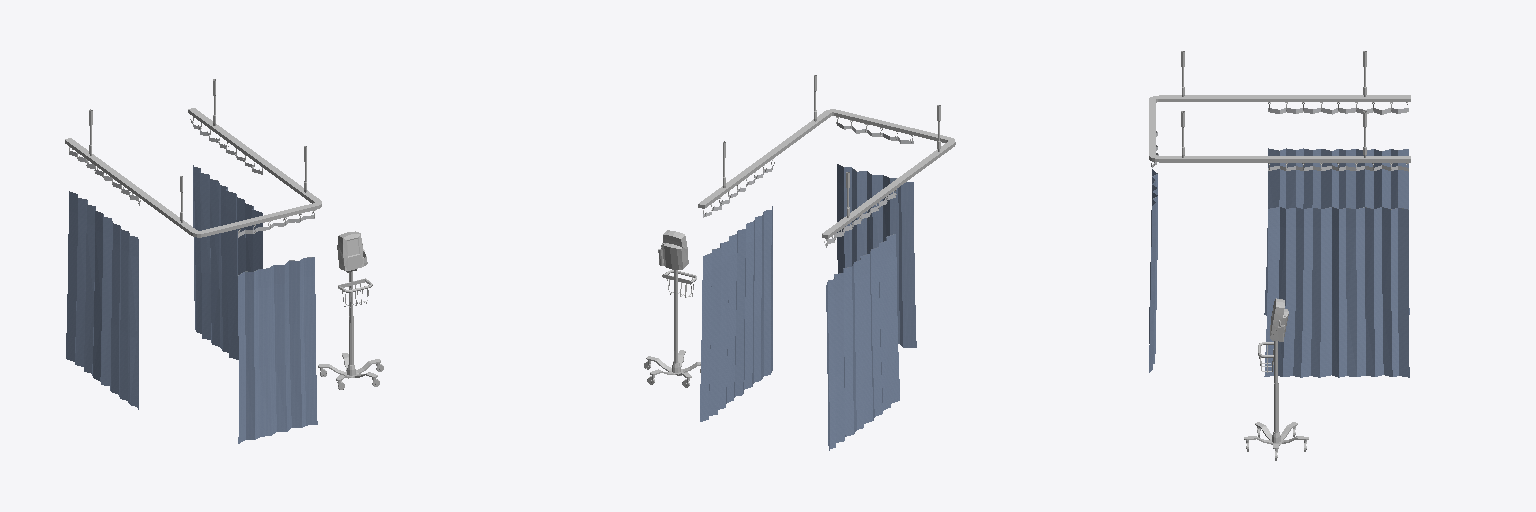
3 views of the same model, side by side, from view 1: azimuth 30°, elevation 25°; view 2: azimuth 150°, elevation 25°; view 3: azimuth 270°, elevation 25° (orthographic).
Visible parts, largest first — view 1: defaultMaterial.003, defaultMaterial.020, defaultMaterial.010, defaultMaterial.002, defaultMaterial, defaultMaterial.001; view 2: defaultMaterial.020, defaultMaterial.010, defaultMaterial.003, defaultMaterial.002, defaultMaterial, defaultMaterial.001; view 3: defaultMaterial.010, defaultMaterial.020, defaultMaterial.002, defaultMaterial.003, defaultMaterial, defaultMaterial.001.
Part boxes in pixels (x1,y1,x2,y2): defaultMaterial.003: (238,215,317,443); defaultMaterial.020: (66,151,139,409); defaultMaterial.010: (192,121,262,359); defaultMaterial.002: (65,79,321,237); defaultMaterial: (318,271,383,389); defaultMaterial.001: (337,231,367,272); defaultMaterial.020: (826,193,899,450); defaultMaterial.010: (700,166,772,421); defaultMaterial.003: (837,122,916,347); defaultMaterial.002: (698,75,955,238); defaultMaterial: (644,270,700,387); defaultMaterial.001: (658,230,688,269); defaultMaterial.010: (1264,165,1409,377); defaultMaterial.020: (1264,108,1409,315); defaultMaterial.002: (1149,51,1410,162); defaultMaterial.003: (1149,131,1158,372); defaultMaterial: (1244,341,1308,460); defaultMaterial.001: (1270,298,1288,341).
Size of the model in its own units: 8.16 by 8.97 by 7.39.
2 materials, 1 textured.